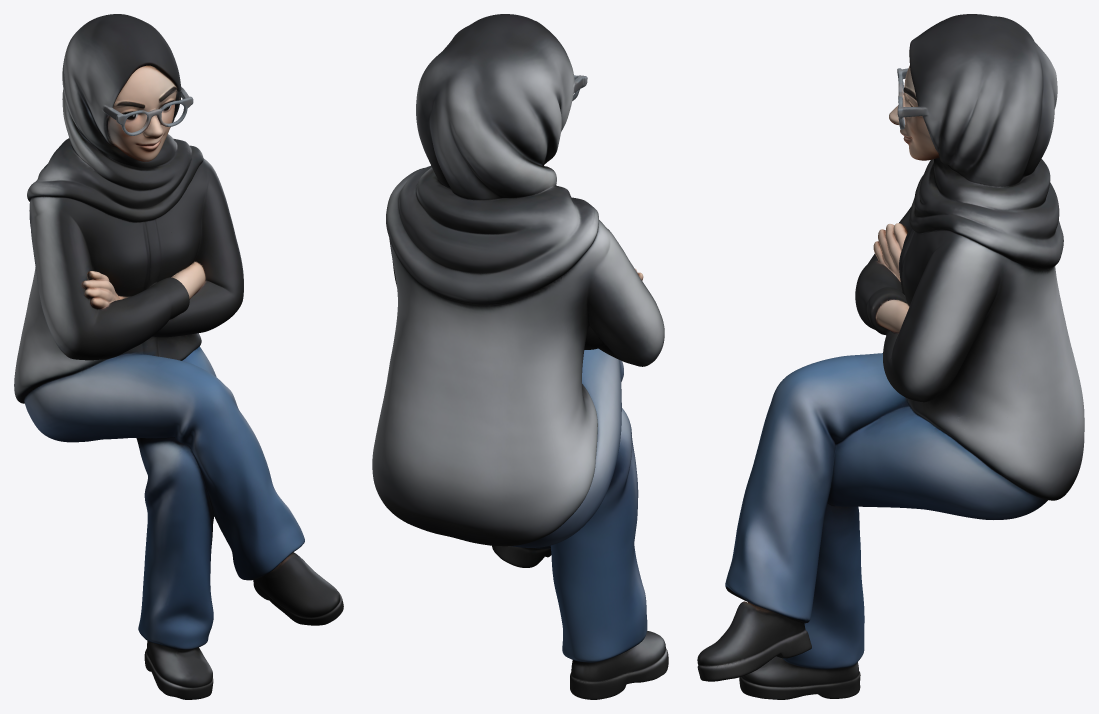
Rendered from MuthiaUIUX.fbx.
The picture shows the model from 3 angles, left to right: view 1: azimuth 30°, elevation 25°; view 2: azimuth 150°, elevation 25°; view 3: azimuth 270°, elevation 25°; orthographic projection. The views are drawn at different scales.
Parts seen in each view (by area): view 1: tripo_node_65c7b3e2; view 2: tripo_node_65c7b3e2; view 3: tripo_node_65c7b3e2.
Boxes of the visible parts, x1=… form: tripo_node_65c7b3e2: x1=14, y1=14, x2=343, y2=699; tripo_node_65c7b3e2: x1=372, y1=14, x2=668, y2=699; tripo_node_65c7b3e2: x1=697, y1=14, x2=1084, y2=699.
Size of the model in its own units: 0.3657 by 1 by 0.5134.
